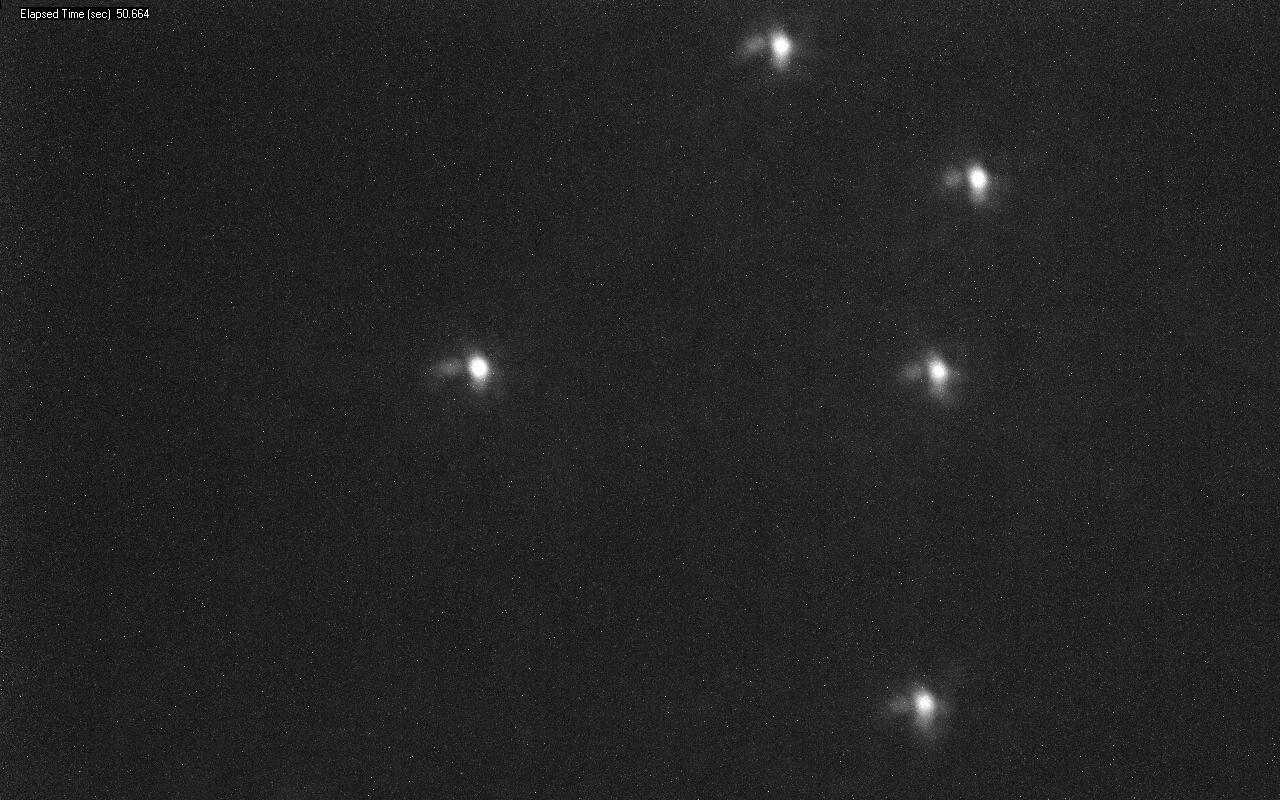Bead: (913, 689, 940, 728), (921, 356, 953, 388), (964, 166, 990, 198), (466, 356, 491, 382), (770, 34, 789, 63)
